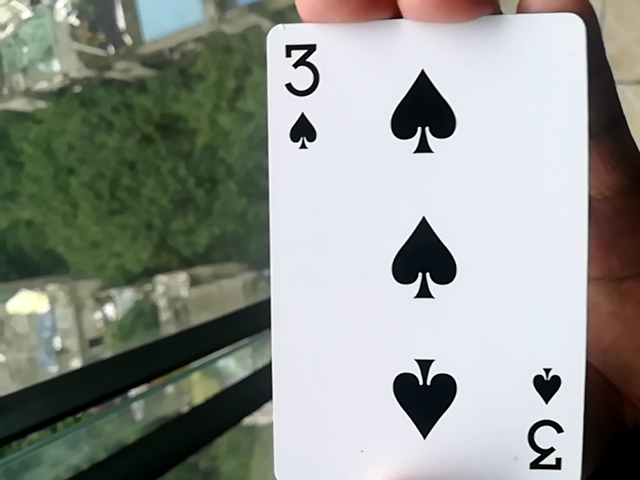ht 3: (250, 21, 605, 478)
